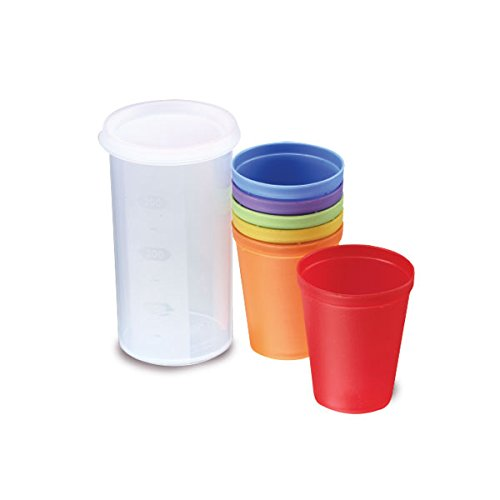plastic_bottle: (295, 240, 419, 417)
